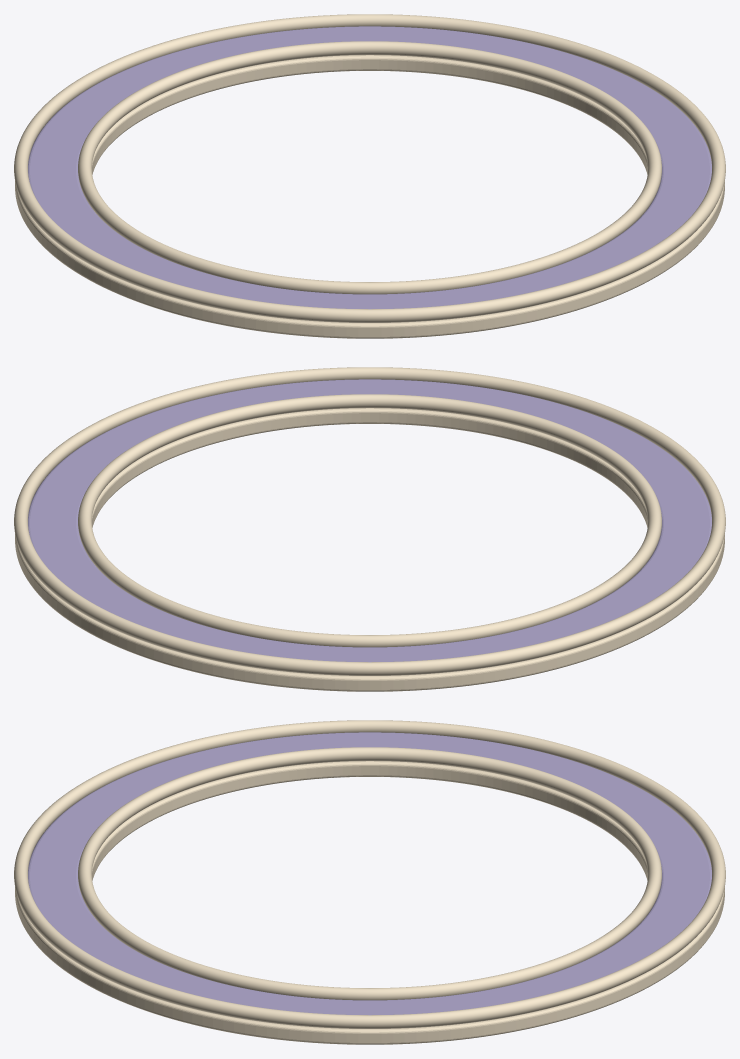
The model's file is RingOuter.fbx.
The picture shows the model from 3 angles, top to bottom: view 1: azimuth 30°, elevation 25°; view 2: azimuth 150°, elevation 25°; view 3: azimuth 270°, elevation 25°; orthographic projection.
Visible parts, largest first — view 1: Outer Ring Lavender Trough, Outer Ring Outer Rail, Outer Ring Ivory Base, Outer Ring Inner Rail; view 2: Outer Ring Lavender Trough, Outer Ring Outer Rail, Outer Ring Ivory Base, Outer Ring Inner Rail; view 3: Outer Ring Lavender Trough, Outer Ring Outer Rail, Outer Ring Ivory Base, Outer Ring Inner Rail.
Part boxes in pixels (<box>): Outer Ring Lavender Trough: <box>28,26,711,309</box>; Outer Ring Outer Rail: <box>14,14,725,322</box>; Outer Ring Ivory Base: <box>15,55,724,338</box>; Outer Ring Inner Rail: <box>78,41,661,294</box>; Outer Ring Lavender Trough: <box>28,379,711,662</box>; Outer Ring Outer Rail: <box>14,367,725,675</box>; Outer Ring Ivory Base: <box>15,408,724,691</box>; Outer Ring Inner Rail: <box>78,394,661,647</box>; Outer Ring Lavender Trough: <box>28,732,711,1015</box>; Outer Ring Outer Rail: <box>14,720,725,1028</box>; Outer Ring Ivory Base: <box>15,761,724,1044</box>; Outer Ring Inner Rail: <box>78,747,661,1000</box>.
Bounding box in the file's own units: 10.69 × 0.455 × 10.69.
